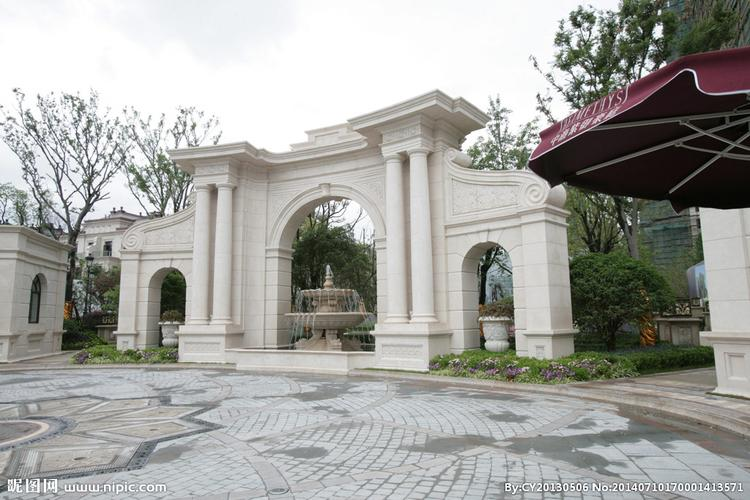buildings: (135, 87, 645, 362)
